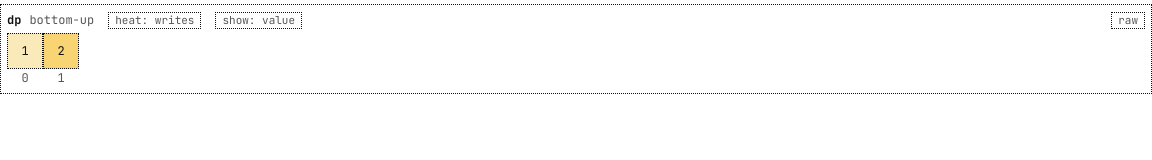
Test case: inspector dismissal › DpTablePanel › gives its close button an accessible name
Click the 1st text with class "dp-cell": (25,51) [7,33,43,69]
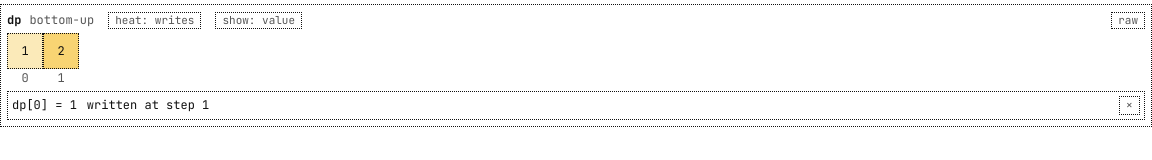
Check: the button named "Close details" is shown, box [1119,96,1140,115]
